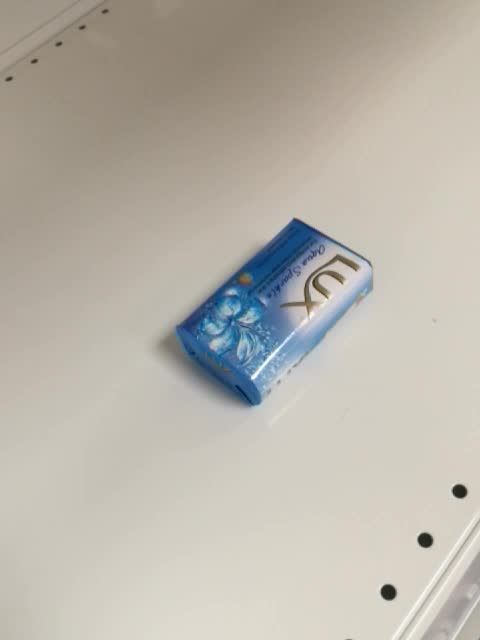soap: (174, 216, 375, 408)
